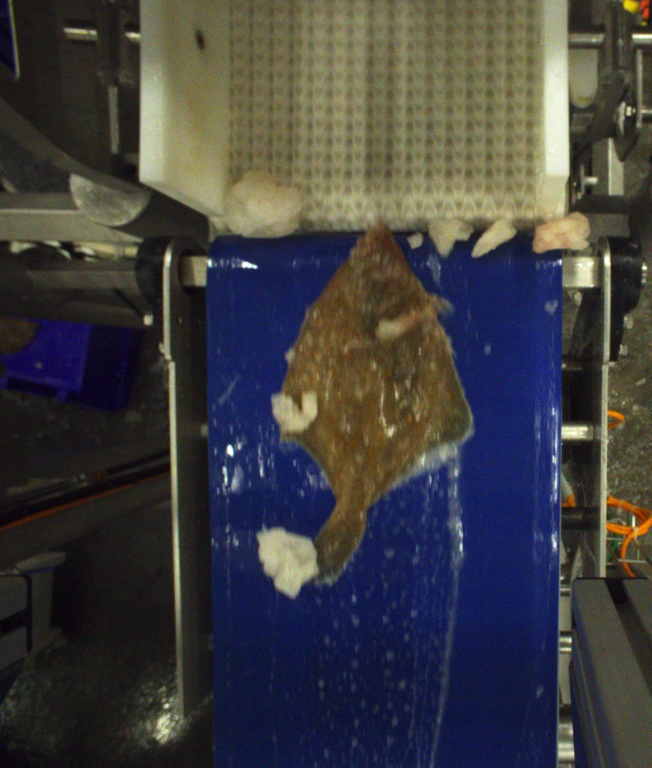PLE: (276, 218, 473, 589)
